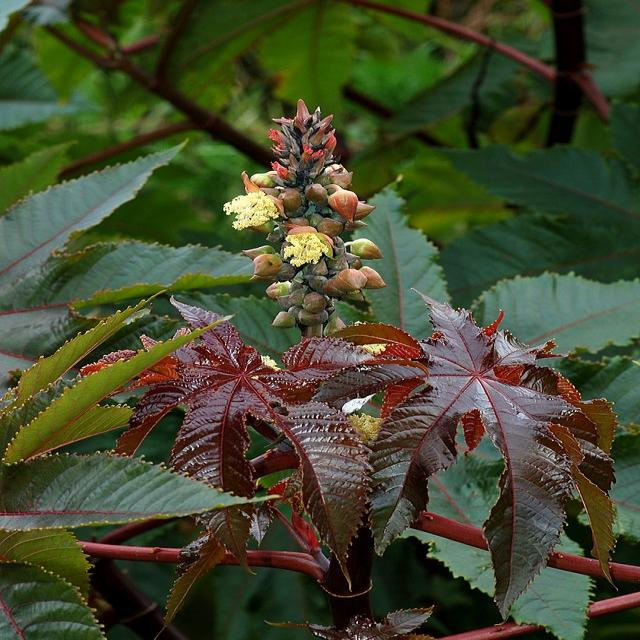Castor Oil Plant: (24, 118, 268, 592), (305, 313, 602, 563), (165, 99, 404, 356)
